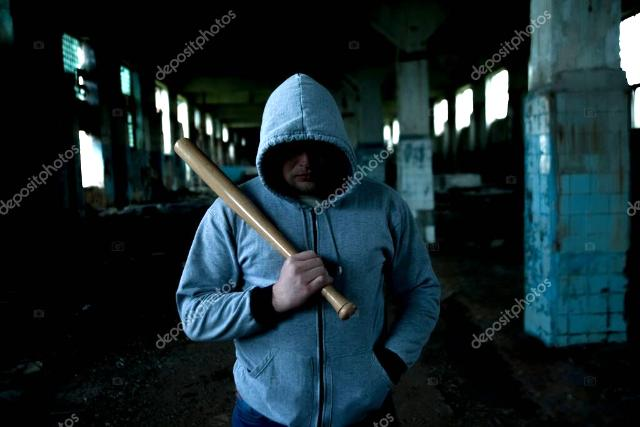baseball bat: (178, 134, 358, 320)
